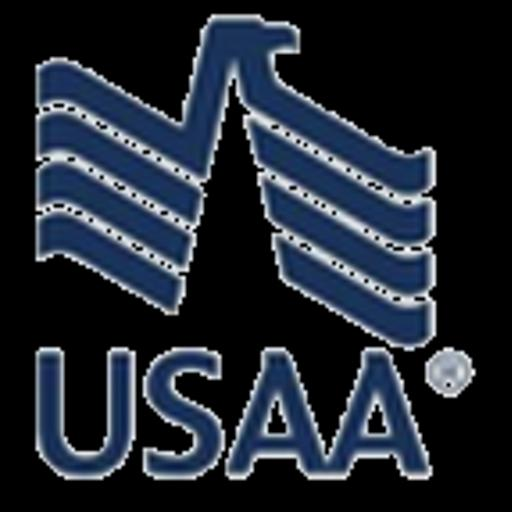United Services Automobile Association: (7, 0, 504, 512)
